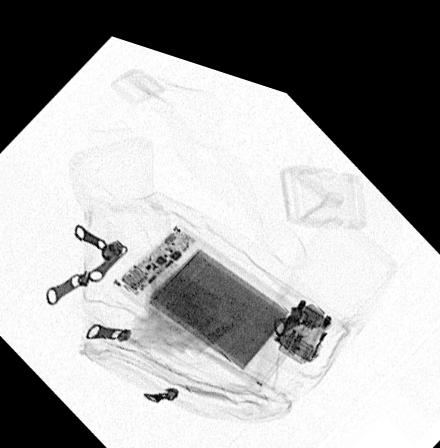Powerbank: (108, 208, 318, 371)
